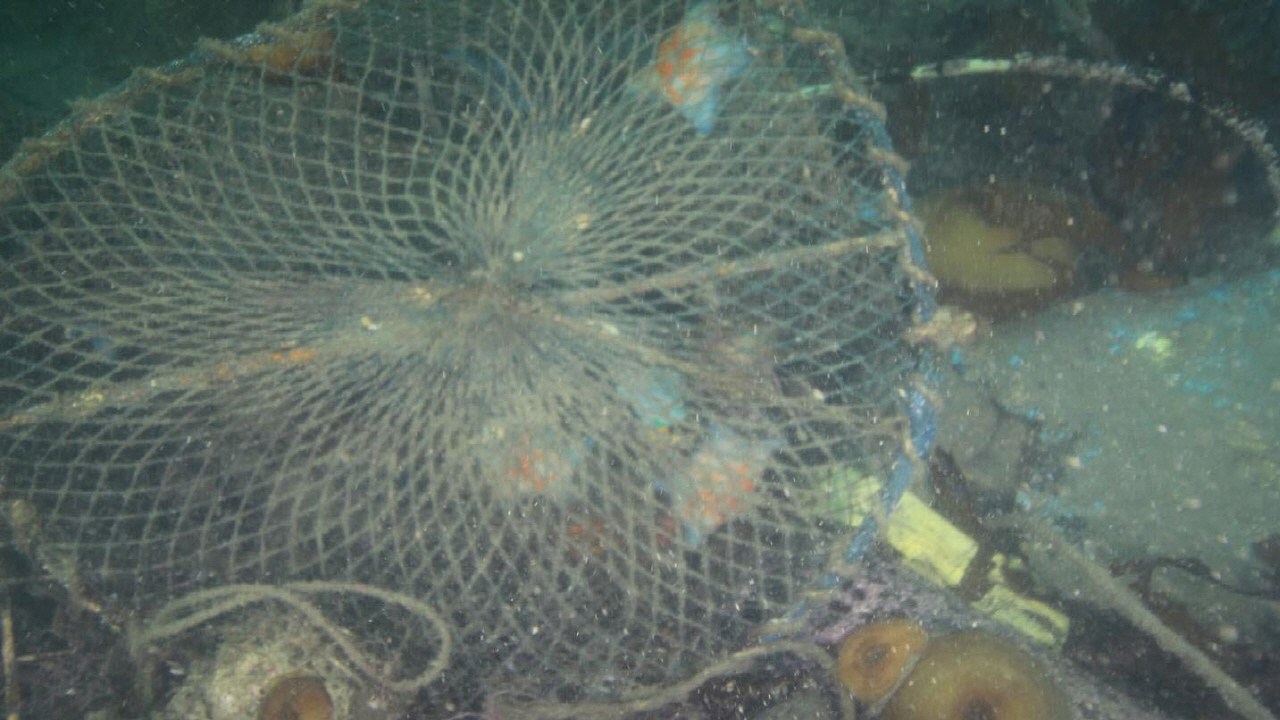circular fish trap: (0, 0, 939, 719)
